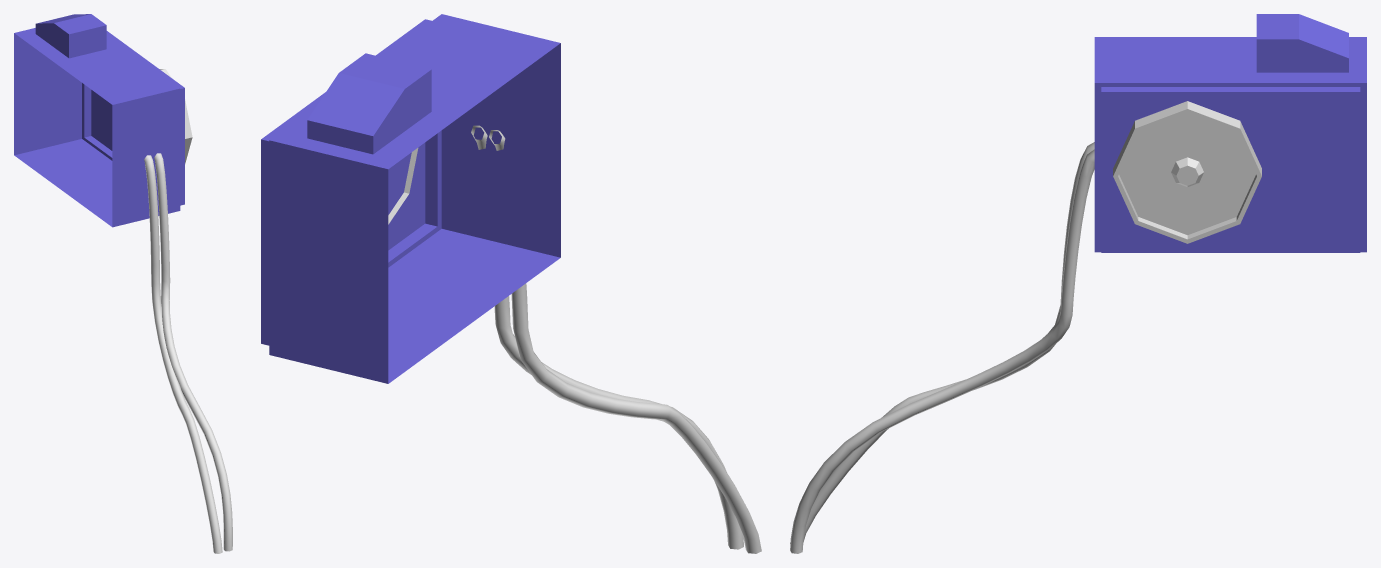
The model's file is BoxElec.fbx.
3 renders of one model, left to right at view 1: azimuth 30°, elevation 25°; view 2: azimuth 150°, elevation 25°; view 3: azimuth 270°, elevation 25°, orthographic. The views are drawn at different scales.
Parts seen in each view (by area): view 1: Cube; view 2: Cube; view 3: Cube.
Boxes of the visible parts, <box> form: Cube: <box>14,14,232,553</box>; Cube: <box>261,14,761,553</box>; Cube: <box>790,14,1366,553</box>.
Bounding box in the file's own units: 18.01 × 72.6 × 70.
